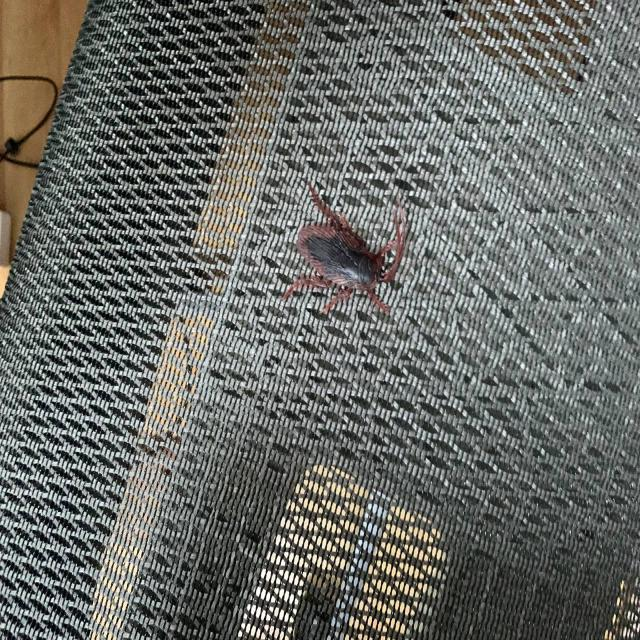Cockroach: (287, 169, 407, 315)
